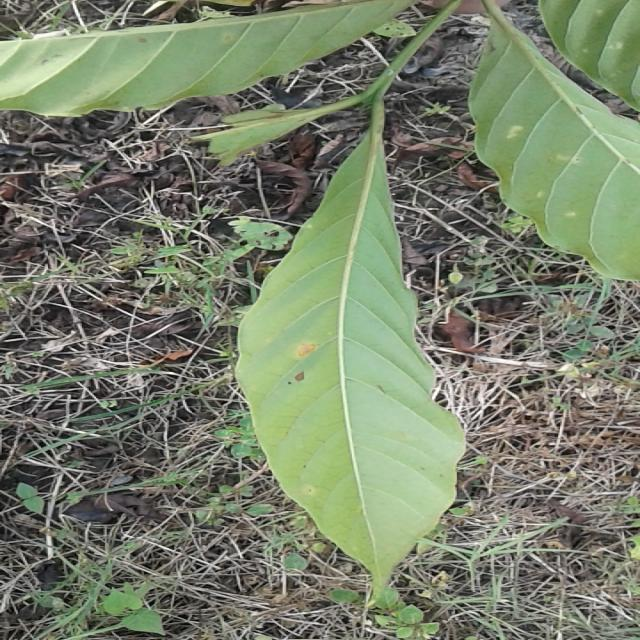Enfermedad-Roya: (234, 110, 468, 617)
